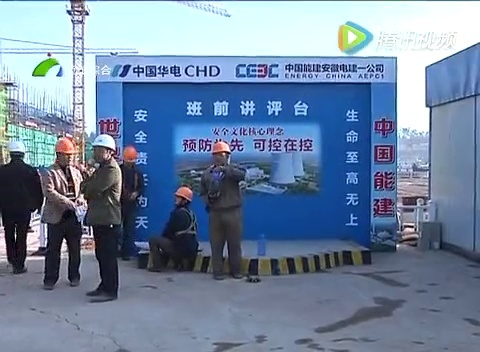white: (90, 133, 115, 162), (7, 139, 26, 162)
yellow: (53, 136, 76, 167), (172, 185, 193, 209), (211, 141, 232, 165), (122, 146, 137, 167)
